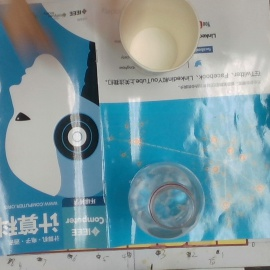bottle: (127, 163, 205, 237)
cup: (119, 1, 200, 71)
